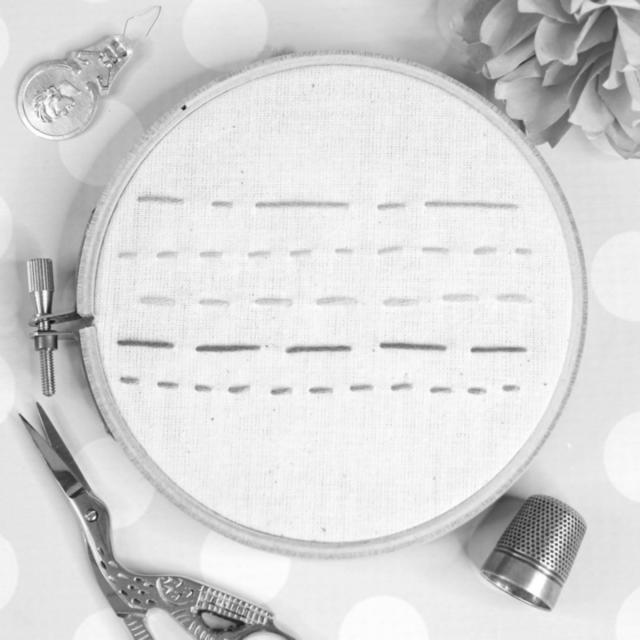stitch: (255, 201, 349, 209), (425, 201, 518, 209), (286, 345, 351, 354), (380, 343, 446, 351), (118, 339, 174, 348), (196, 345, 260, 352), (141, 296, 175, 308), (316, 298, 358, 306), (471, 346, 526, 352), (138, 196, 184, 203), (384, 299, 419, 308), (255, 298, 292, 306), (442, 294, 479, 302), (498, 295, 531, 303), (199, 300, 229, 308), (378, 202, 405, 210), (378, 246, 402, 255), (422, 246, 449, 254), (289, 249, 311, 258), (474, 246, 496, 255), (229, 385, 250, 394), (391, 382, 412, 391), (248, 250, 271, 258), (200, 251, 222, 259), (270, 388, 292, 396), (156, 251, 177, 259), (158, 381, 179, 389), (350, 384, 374, 391), (430, 386, 451, 394), (120, 376, 140, 384), (119, 251, 138, 259), (211, 201, 232, 208), (309, 388, 332, 394), (502, 385, 520, 392), (468, 388, 486, 394), (335, 249, 352, 255), (515, 248, 531, 254), (195, 386, 211, 392)
